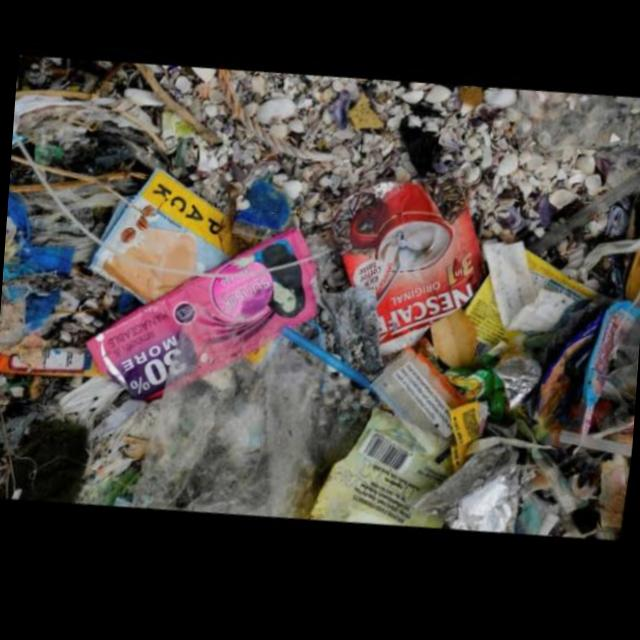goi_nhua_nho: (85, 234, 316, 406), (341, 190, 487, 367), (85, 173, 233, 306), (582, 312, 640, 423)
ong_hut_nhua: (529, 182, 640, 269), (281, 333, 375, 402), (558, 442, 631, 470)
